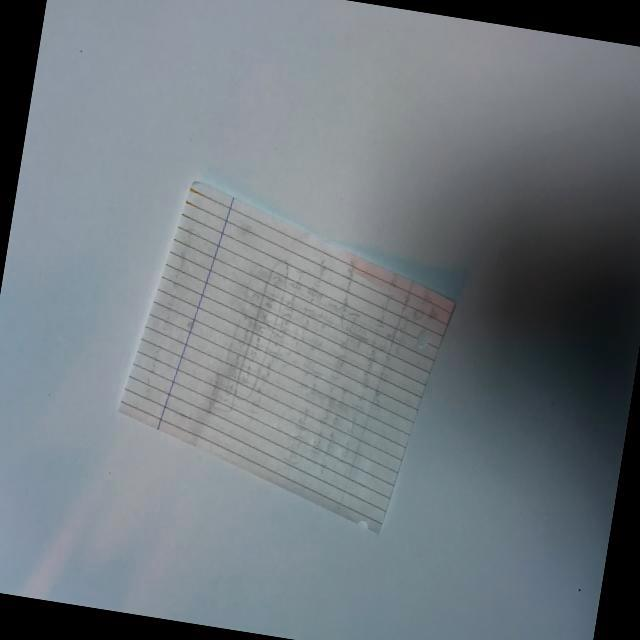paper: (78, 161, 474, 553)
